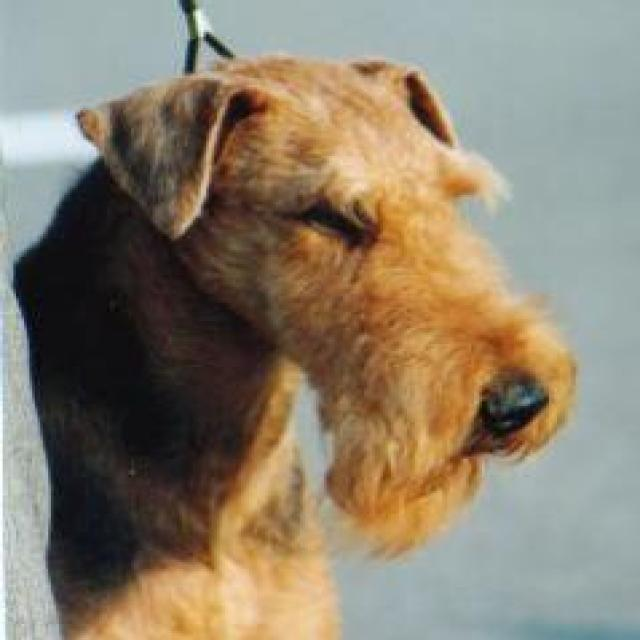airedale: (2, 46, 586, 631)
